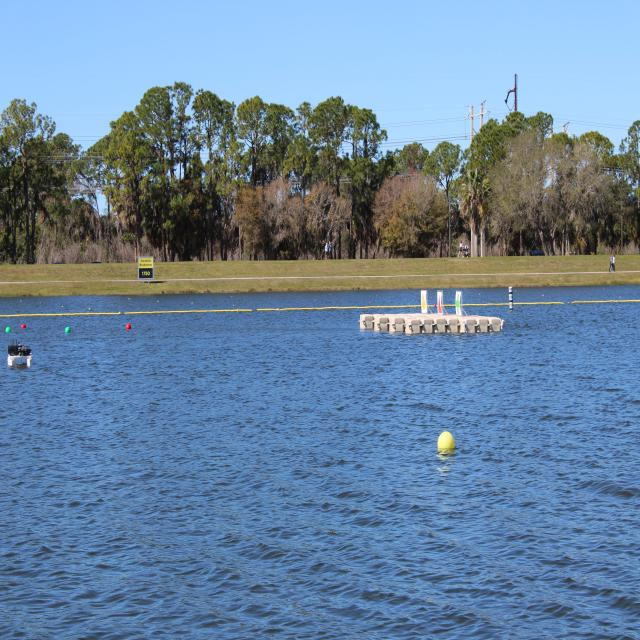green-buoy: (66, 325, 72, 334), (6, 329, 12, 336)
red-buoy: (20, 325, 25, 332)
yellow-buoy: (437, 430, 455, 452)
